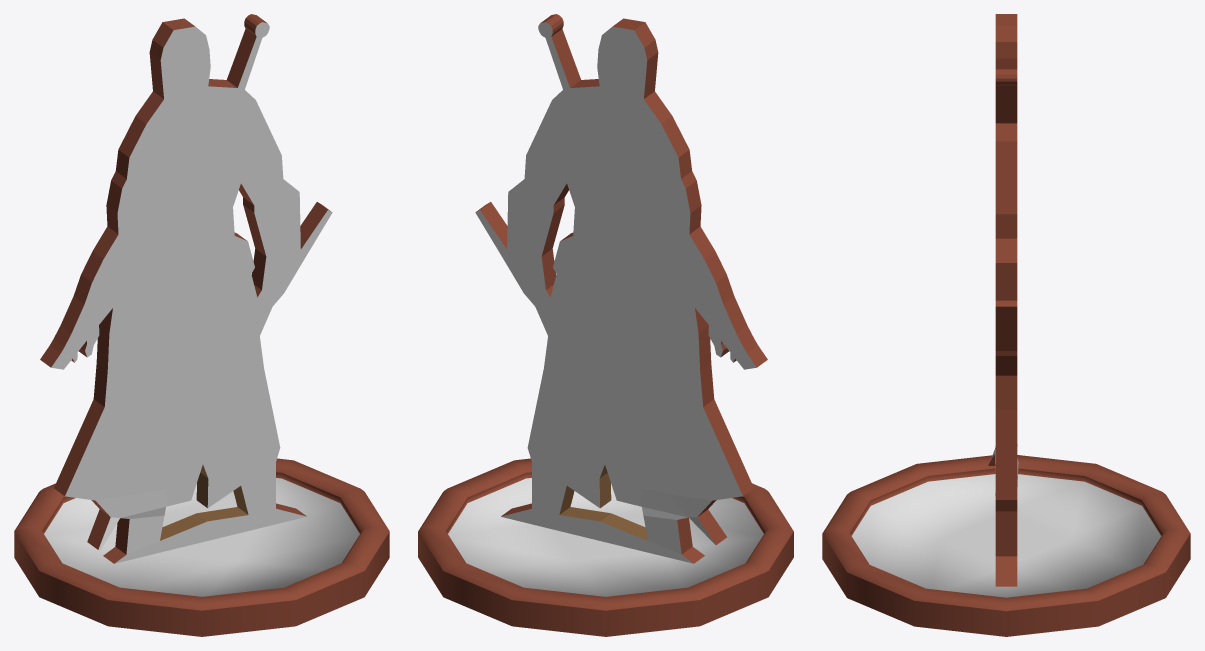
The model's file is player_char_bear_school.fbx.
The picture shows the model from 3 angles, left to right: view 1: azimuth 30°, elevation 25°; view 2: azimuth 150°, elevation 25°; view 3: azimuth 270°, elevation 25°; orthographic projection. The views are drawn at different scales.
Visible parts, largest first — view 1: Cylinder; view 2: Cylinder; view 3: Cylinder.
Part boxes in pixels (<box>): Cylinder: <box>14,14,389,636</box>; Cylinder: <box>418,14,793,636</box>; Cylinder: <box>822,14,1190,636</box>.
Size of the model in its own units: 226 by 358 by 226.
